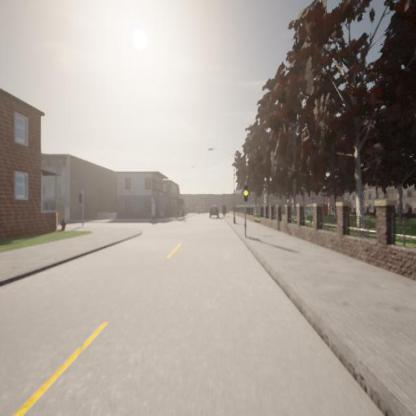traffic_light_orange: (244, 185, 248, 202)
